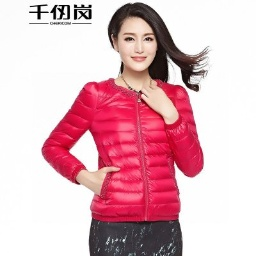face: (105, 1, 211, 93)
